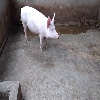heo: (19, 4, 60, 53)
